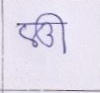i_matra: (38, 11, 73, 53)
